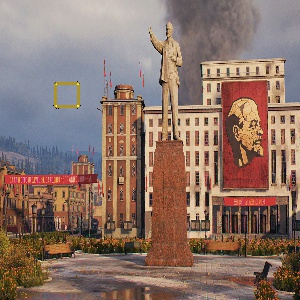square: (53, 80, 81, 110)
